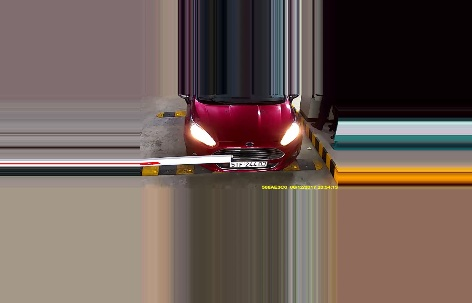plate: (229, 160, 267, 166)
